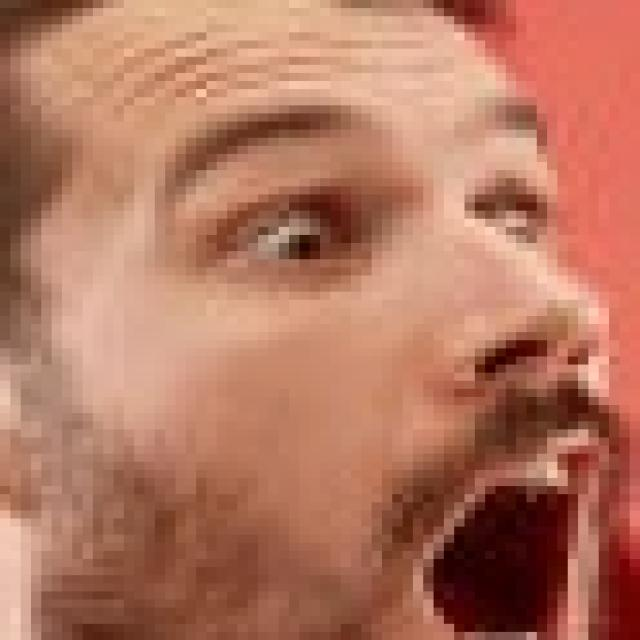Anxiety: (13, 0, 619, 632)
